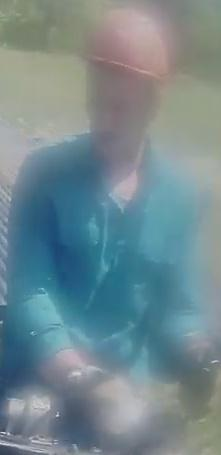gloves: (52, 352, 167, 455), (172, 318, 221, 399)
helmet: (86, 5, 172, 87)
vest: (0, 130, 212, 371)
